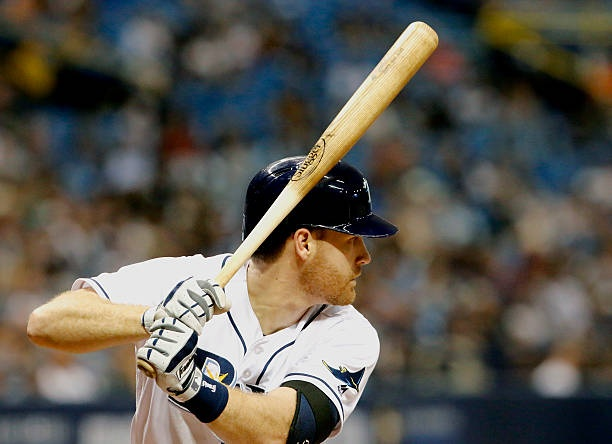bita: (140, 23, 436, 375)
